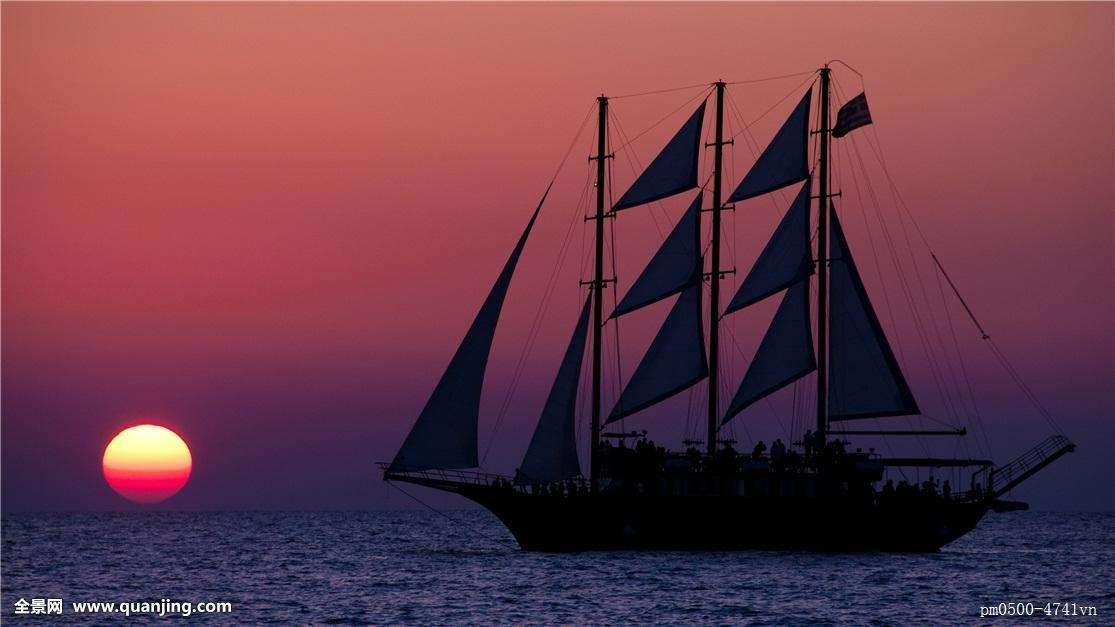fanchuan: (375, 55, 1075, 551)
